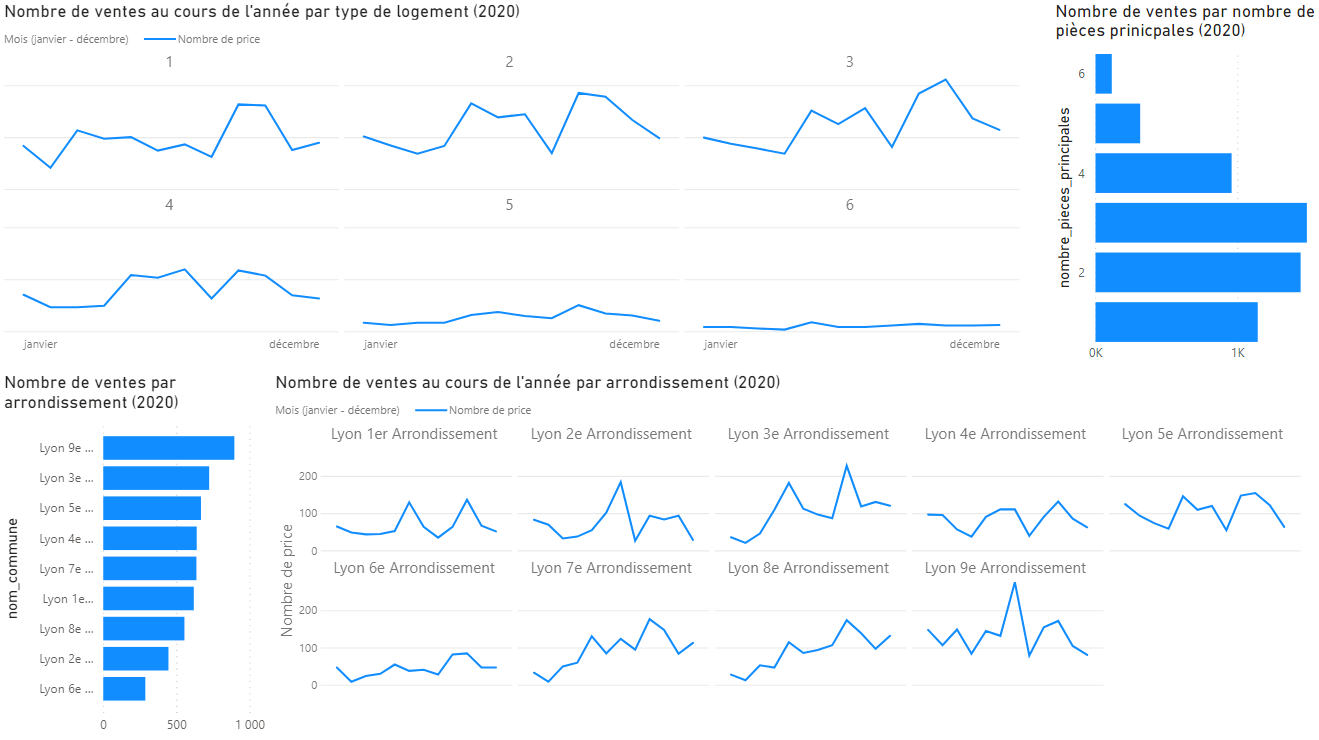

The dashboard page shown, as its layout file describes it:
{"tool":"powerbi","page":{"name":"Cadastre","canvas":[1280,720],"ordinal":1},"visuals":[{"type":"smallMultipleLineChart6FA6C19AAE3840AFB9CD11A23CA7D7C7","box":[468.4,118,12.5,346.8],"z":0},{"type":"smallMultipleLineChart6FA6C19AAE3840AFB9CD11A23CA7D7C7","title":"Nombre de ventes au cours de l''année par type de logement (2020)","fields":{"smallMultiple":["cadastre.nombre_pieces_principales"],"values":["CountNonNull(cadastre.price)"],"category":["cadastre.date_mutation.Variation.Hiérarchie de dates.Mois"]},"box":[0,0,1008,360.6],"z":1},{"type":"clusteredBarChart","title":"Nombre de ventes par nombre de pièces prinicpales (2020)","fields":{"Y":["CountNonNull(cadastre.price)"],"Category":["cadastre.nombre_pieces_principales"]},"box":[1018,0,262,361],"z":2},{"type":"smallMultipleLineChart6FA6C19AAE3840AFB9CD11A23CA7D7C7","title":"Nombre de ventes au cours de l''année par arrondissement (2020)","fields":{"category":["cadastre.date_mutation.Variation.Hiérarchie de dates.Mois"],"smallMultiple":["cadastre.nom_commune"],"values":["CountNonNull(cadastre.price)"]},"box":[262.3,359.2,1017.7,360.6],"z":3},{"type":"clusteredBarChart","title":"Nombre de ventes par arrondissement (2020)","fields":{"Y":["CountNonNull(cadastre.price)"],"Category":["cadastre.nom_commune"]},"box":[0,359.2,262.3,360.6],"z":4}]}

Visuals, with their boxes in screenshot pixels (x1, y1, x2, y2), scaled from the page's 1280x720 canvas onto the 1319x740 screenshot:
smallMultipleLineChart6FA6C19AAE3840AFB9CD11A23CA7D7C7: (483, 121, 496, 478)
"Nombre de ventes au cours de l''année par type de logement (2020)" smallMultipleLineChart6FA6C19AAE3840AFB9CD11A23CA7D7C7: (0, 0, 1039, 371)
"Nombre de ventes par nombre de pièces prinicpales (2020)" clusteredBarChart: (1049, 0, 1318, 371)
"Nombre de ventes au cours de l''année par arrondissement (2020)" smallMultipleLineChart6FA6C19AAE3840AFB9CD11A23CA7D7C7: (270, 369, 1318, 739)
"Nombre de ventes par arrondissement (2020)" clusteredBarChart: (0, 369, 270, 739)
